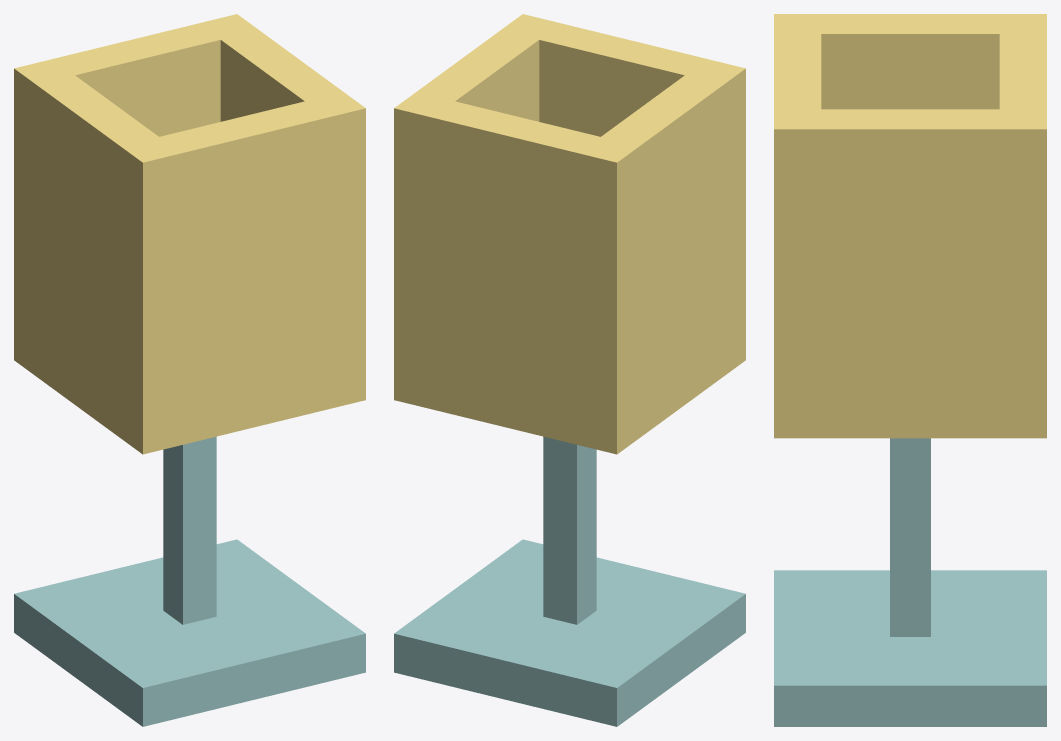
Rendered from lampSquareTable.glb.
3 renders of one model, left to right at view 1: azimuth 30°, elevation 25°; view 2: azimuth 150°, elevation 25°; view 3: azimuth 270°, elevation 25°, orthographic. The views are drawn at different scales.
Size of the model in its own units: 1.2 by 2.9 by 1.2.
